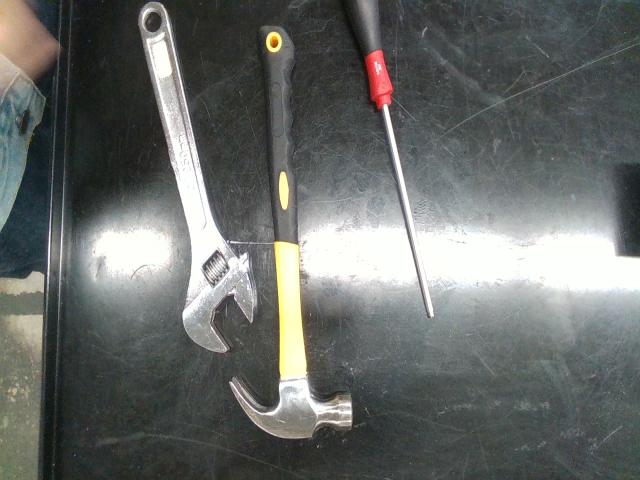Adjustable spanner: (139, 2, 256, 352)
Hammer: (230, 27, 352, 438)
Screwdriver: (346, 0, 432, 318)
